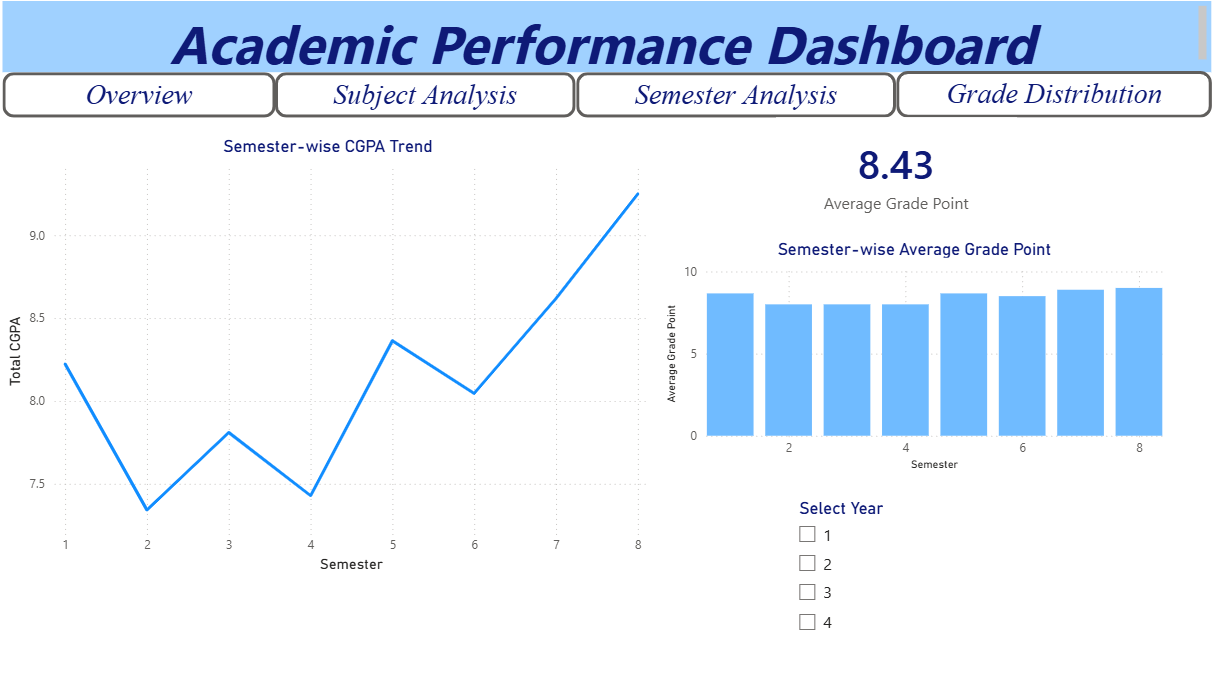

What the dashboard file says about the page in this screenshot:
{"tool":"powerbi","page":{"name":"Semester Analysis","canvas":[1280,720],"ordinal":2},"visuals":[{"type":"textbox","box":[27.4,39.8,1208.9,71.4],"z":0},{"type":"actionButton","box":[300.5,111.1,300.5,45.3],"z":1000},{"type":"actionButton","box":[601,111.1,319.7,45.3],"z":2000},{"type":"actionButton","box":[920.8,109.8,315.6,46.7],"z":3000},{"type":"actionButton","box":[27.4,111.1,273.1,45.3],"z":4000},{"type":"lineChart","title":"Semester-wise CGPA Trend","fields":{"Category":["academictable.Semester_Number"],"Y":["academictable.Total CGPA"]},"box":[26.9,174.9,650.5,441.4],"z":5000},{"type":"slicer","fields":{"Values":["academictable.Year"]},"box":[810.7,531.9,267.8,150.4],"z":6000},{"type":"columnChart","title":"Semester-wise Average Grade Point","fields":{"Category":["academictable.Semester_Number"],"Y":["academictable.Average Grade Point"]},"box":[686,277.6,506.3,237.2],"z":7000},{"type":"cardVisual","fields":{"Data":["academictable.Average Grade Point"]},"box":[801,156.5,240.9,114.9],"z":8000}]}

Visuals, with their boxes in screenshot pixels (x1, y1, x2, y2), scaled from the page's 1280x720 canvas onto the 1213x677 screenshot:
textbox: [26,37,1172,105]
actionButton: [285,104,570,147]
actionButton: [570,104,873,147]
actionButton: [873,103,1172,147]
actionButton: [26,104,285,147]
"Semester-wise CGPA Trend" lineChart: [25,164,642,579]
slicer - academictable.Year: [768,500,1022,642]
"Semester-wise Average Grade Point" columnChart: [650,261,1130,484]
cardVisual - academictable.Average Grade Point: [759,147,987,255]
